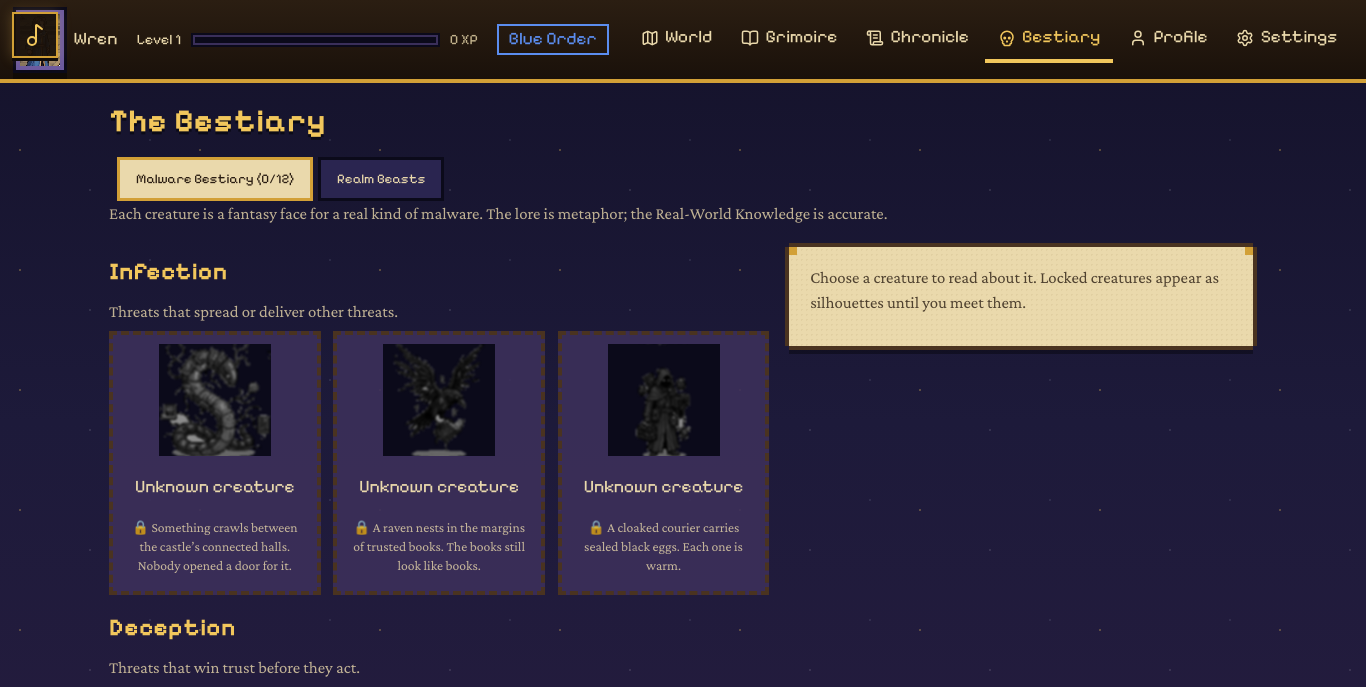
Test: Malware Bestiary in the UI › locked creatures are anonymous silhouettes; encounters are gated behind Chapter 1
Expected: the heading "Infection" is shown, [109,257,228,286]
Expected: the heading "Deception" is shown, [109,614,236,642]
Click the button "Unknown creature".
click(215, 463)  # box [109,331,321,595]
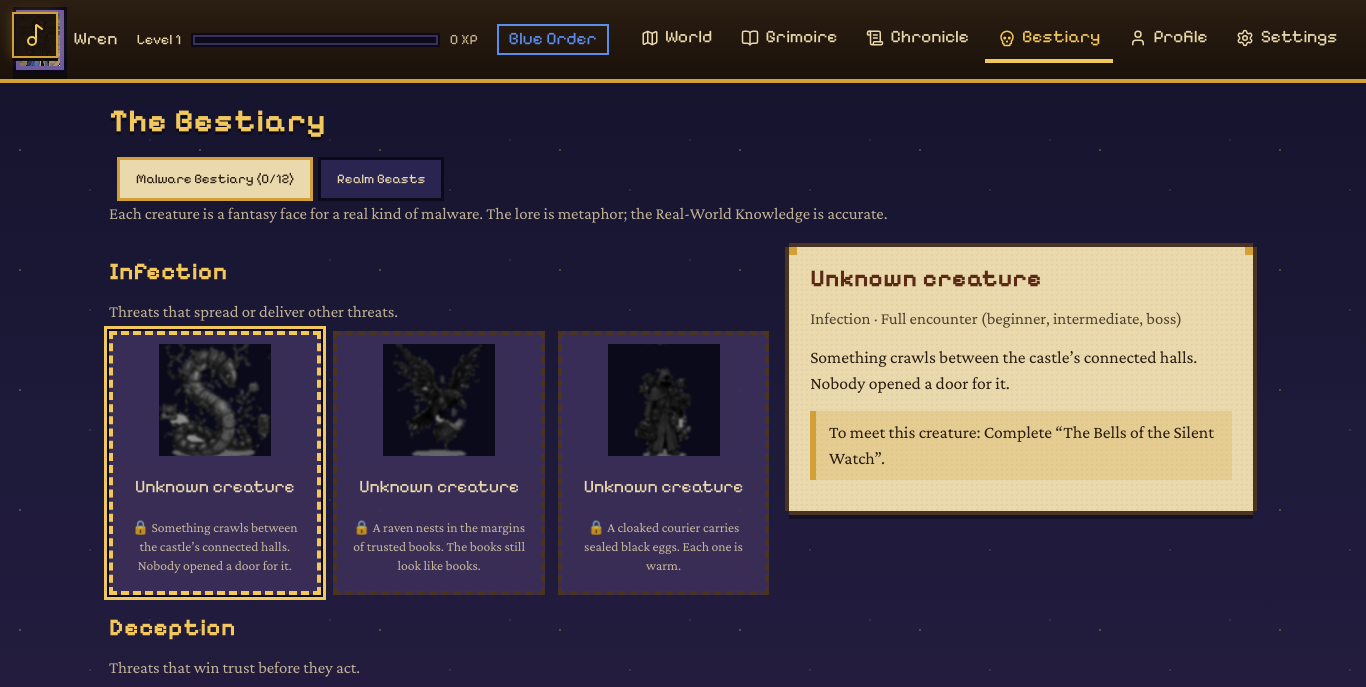
Expected: the text "To meet this creature" is shown, [829,422,980,442]
